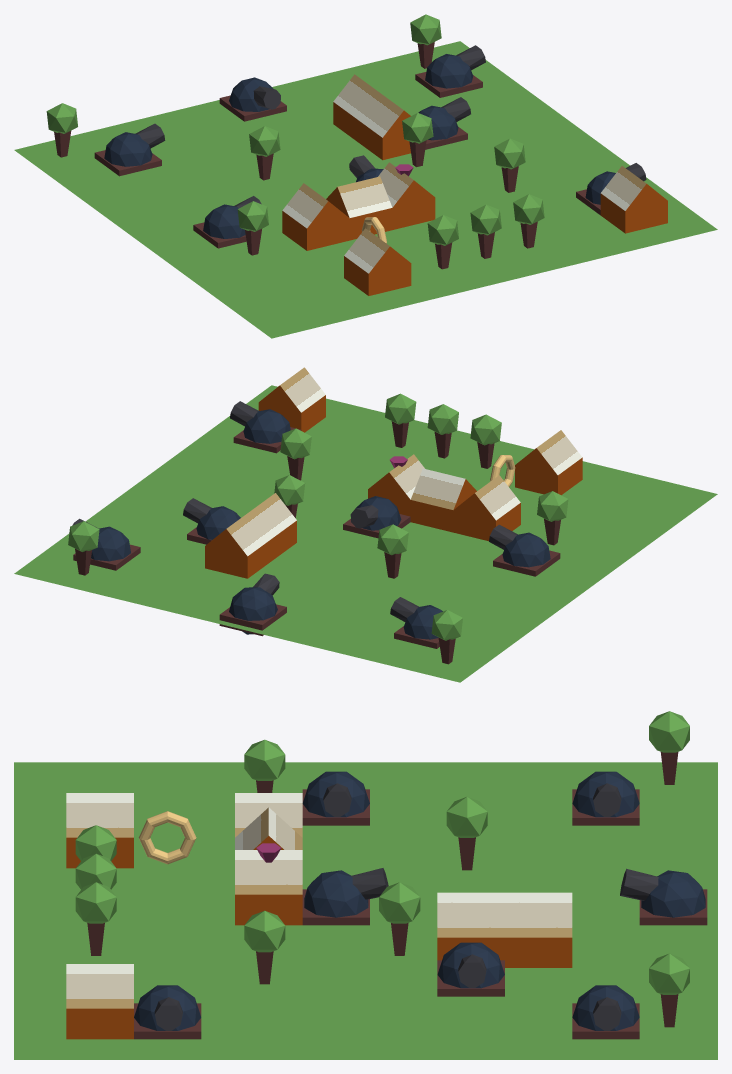
File: assets.gltf
3 renders of one model, top to bottom at view 1: azimuth 30°, elevation 25°; view 2: azimuth 150°, elevation 25°; view 3: azimuth 270°, elevation 25°, orthographic. The views are drawn at different scales.
Parts seen in each view (by area): view 1: Plane, Cube.002, Cube.006, Cube.004, Cube.003, Cube.001, canon.004, canon.001, Cube, canon, Cube.005, canon.002 (+12 smaller); view 2: Plane, Cube.005, Cube.006, Cube.002, Cube.001, Cube.004, canon, canon.002, canon.005, canon.000, canon.004, Cube (+12 smaller); view 3: Plane, Cube.004, Cube.005, Cube, canon, canon.000, Cube.003, Cube.006, canon.001, canon.005, canon.002, canon.004 (+13 smaller).
Part boxes in pixels (box(x1,y1,x2,y2)): Plane: box(14, 41, 717, 338); Cube.002: box(282, 183, 349, 250); Cube.006: box(344, 228, 411, 295); Cube.004: box(600, 166, 667, 233); Cube.003: box(358, 92, 410, 160); Cube.001: box(326, 176, 392, 240); canon.004: box(94, 123, 165, 176); canon.001: box(415, 45, 485, 97); Cube: box(378, 162, 435, 229); canon: box(219, 77, 286, 121); Cube.005: box(333, 74, 378, 141); canon.002: box(193, 196, 261, 248); Plane: box(14, 385, 717, 682); Cube.005: box(205, 511, 272, 578); Cube.006: box(515, 430, 582, 495); Cube.002: box(453, 475, 520, 541); Cube.001: box(410, 468, 476, 532); Cube.004: box(258, 367, 325, 432); canon: box(219, 573, 286, 636); canon.002: box(489, 524, 560, 576); canon.005: box(230, 401, 301, 453); canon.000: box(343, 496, 410, 538); canon.004: box(390, 597, 442, 648); Cube: box(368, 454, 424, 516); Plane: box(14, 762, 717, 1059); Cube.004: box(66, 964, 133, 1039); Cube.005: box(505, 892, 572, 967); Cube: box(235, 850, 302, 925); canon: box(620, 868, 707, 925); canon.000: box(302, 868, 388, 925); Cube.003: box(437, 892, 504, 960); Cube.006: box(66, 793, 133, 868); canon.001: box(572, 985, 639, 1039); canon.005: box(134, 985, 201, 1039); canon.002: box(302, 771, 369, 825); canon.004: box(572, 771, 639, 825).
Bounding box in the file's own units: 20.87 × 3.09 × 20.87.
1 material, 1 textured.
